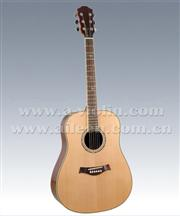guitar: (49, 5, 134, 213)
